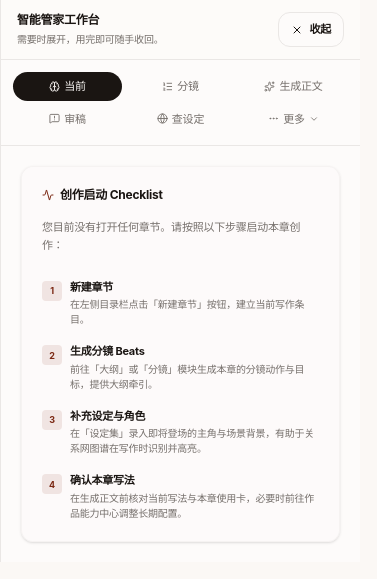
Test: 编辑器引导与智能管家布局 › 智能管家一级入口使用创作阶段命名，更多菜单按用途分组
Click the button "更多" at [294, 119], box [239, 104, 348, 133]
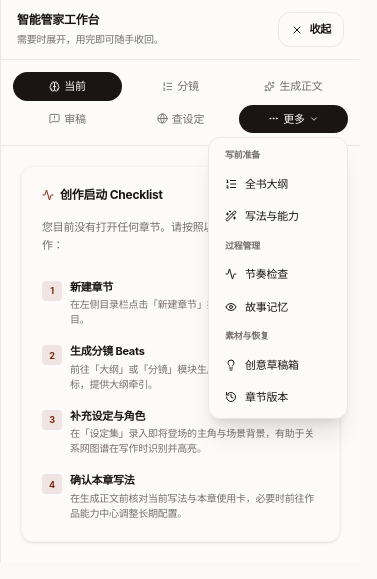
Expected: the menu is shown, [208, 137, 348, 418]
Expected: the element "写前准备" is shown, [213, 142, 343, 232]
Expected: the menu item "全书大纲" is shown, [213, 168, 343, 200]
Click the menu item "章节版本" at [278, 397], box [213, 381, 343, 414]
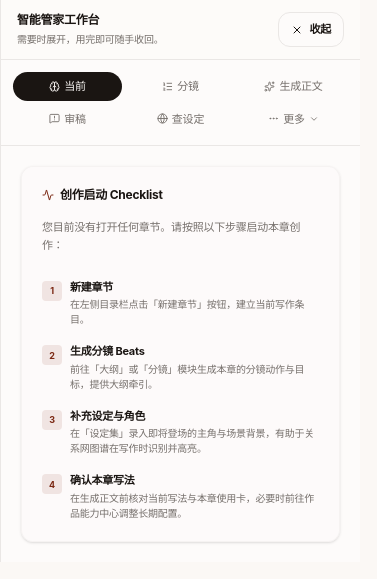
Expected: the menu is gone
